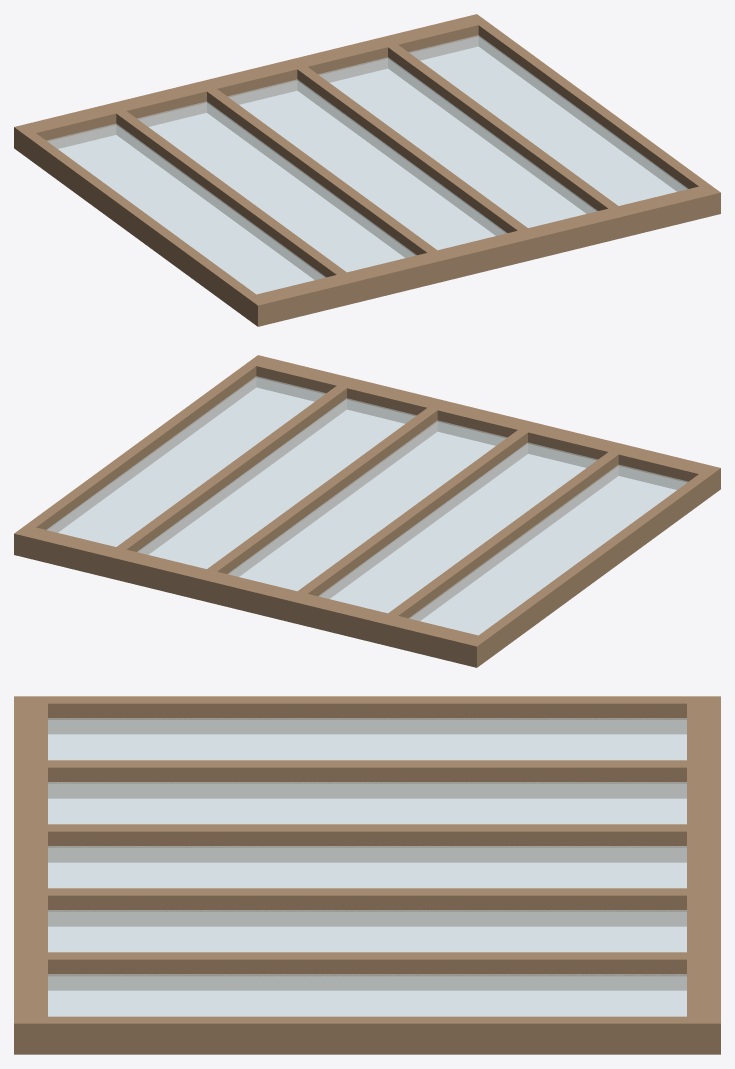
The model's file is hp-glazing-and-sash-panel.glb.
3 renders of one model, top to bottom at view 1: azimuth 30°, elevation 25°; view 2: azimuth 150°, elevation 25°; view 3: azimuth 270°, elevation 25°, orthographic. The views are drawn at different scales.
Visible parts, largest first — view 1: GlassPane_2, GlassPane_4, GlassPane_3, GlassPane_0, GlassPane_1, EndRail_0, EndRail_1, SashBar_0, SashBar_4, SashBar_3, SashBar_2, SashBar_1 (+1 smaller); view 2: GlassPane_3, GlassPane_1, GlassPane_4, GlassPane_2, GlassPane_0, EndRail_1, EndRail_0, SashBar_0, SashBar_4, SashBar_2, SashBar_1, SashBar_3 (+1 smaller); view 3: SashBar_5, GlassPane_0, GlassPane_1, GlassPane_2, GlassPane_3, GlassPane_4, SashBar_1, SashBar_4, SashBar_2, SashBar_3, SashBar_0, EndRail_1 (+1 smaller).
Boxes of the visible parts, box(x1,y1,x2,y2) form: GlassPane_2: box(228, 79, 507, 250); GlassPane_4: box(409, 35, 688, 205); GlassPane_3: box(318, 57, 597, 227); GlassPane_0: box(46, 123, 325, 294); GlassPane_1: box(137, 101, 416, 272); EndRail_0: box(246, 184, 720, 324); EndRail_1: box(24, 14, 486, 148); SashBar_0: box(14, 124, 268, 326); SashBar_4: box(377, 36, 630, 238); SashBar_3: box(286, 58, 539, 260); SashBar_2: box(195, 80, 449, 282); SashBar_1: box(105, 102, 358, 304); GlassPane_3: box(137, 398, 416, 568); GlassPane_1: box(318, 442, 597, 613); GlassPane_4: box(46, 376, 325, 546); GlassPane_2: box(228, 420, 506, 591); GlassPane_0: box(409, 464, 688, 635); EndRail_1: box(14, 525, 488, 665); EndRail_0: box(247, 355, 720, 490); SashBar_0: box(466, 465, 720, 667); SashBar_4: box(104, 377, 358, 579); SashBar_2: box(285, 421, 538, 623); SashBar_1: box(376, 443, 629, 645); SashBar_3: box(195, 399, 448, 601); SashBar_5: box(14, 1016, 720, 1054); GlassPane_0: box(48, 718, 686, 760); GlassPane_1: box(48, 782, 686, 824); GlassPane_2: box(48, 846, 686, 888); GlassPane_3: box(48, 910, 686, 952); GlassPane_4: box(48, 974, 686, 1016); SashBar_1: box(14, 760, 720, 798); SashBar_4: box(14, 952, 720, 990); SashBar_2: box(14, 824, 720, 862); SashBar_3: box(14, 888, 720, 926); SashBar_0: box(14, 696, 720, 733); EndRail_1: box(687, 696, 720, 1048).
Size of the model in its own units: 1.36 by 0.06 by 1.24.
